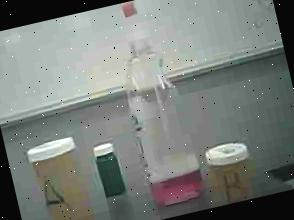Bottle A: (13, 121, 103, 220)
Bottle B: (197, 124, 263, 208)
Bottle C: (86, 130, 133, 210)
hazard: (96, 0, 210, 220)
